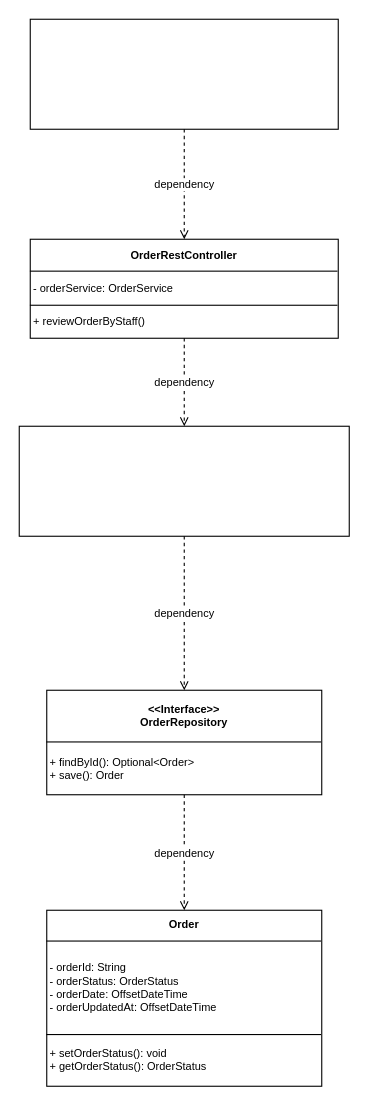
Image size: 369x1106. Some labels were removed from this diagram. Each missing label, with the centre of its shape:
"OrderListPage - selectedOrderId: String + clickApprove() + sendApproveRequest()" belongs at (x=183, y=73).
"OrderService - orderRepository: OrderRepository + reviewOrderByStaff(): void" belongs at (x=183, y=480).
